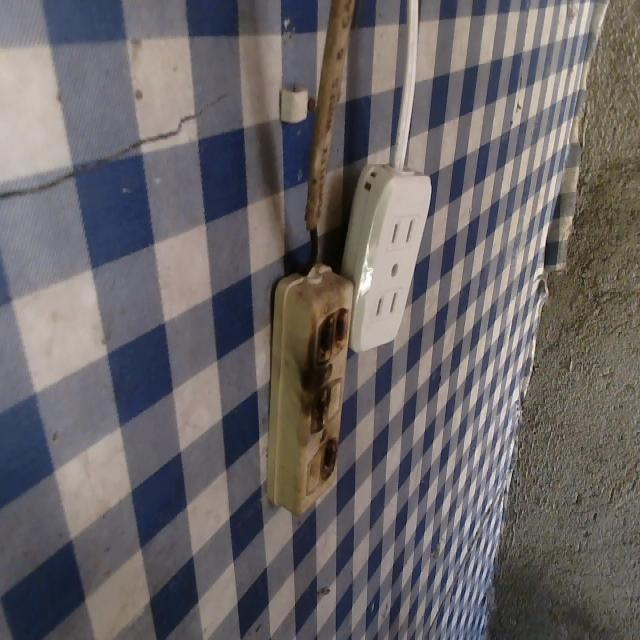-: (305, 305, 355, 359), (302, 382, 337, 430), (317, 435, 344, 481)
